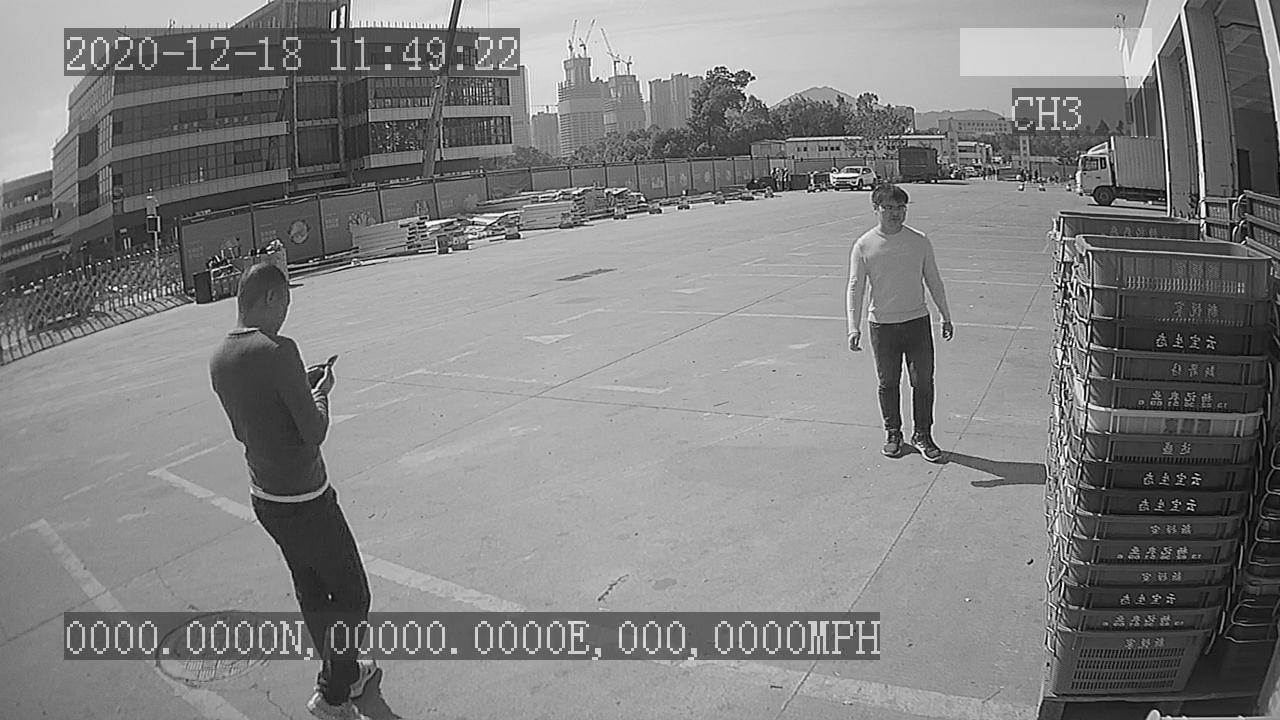person: (840, 179, 958, 469)
